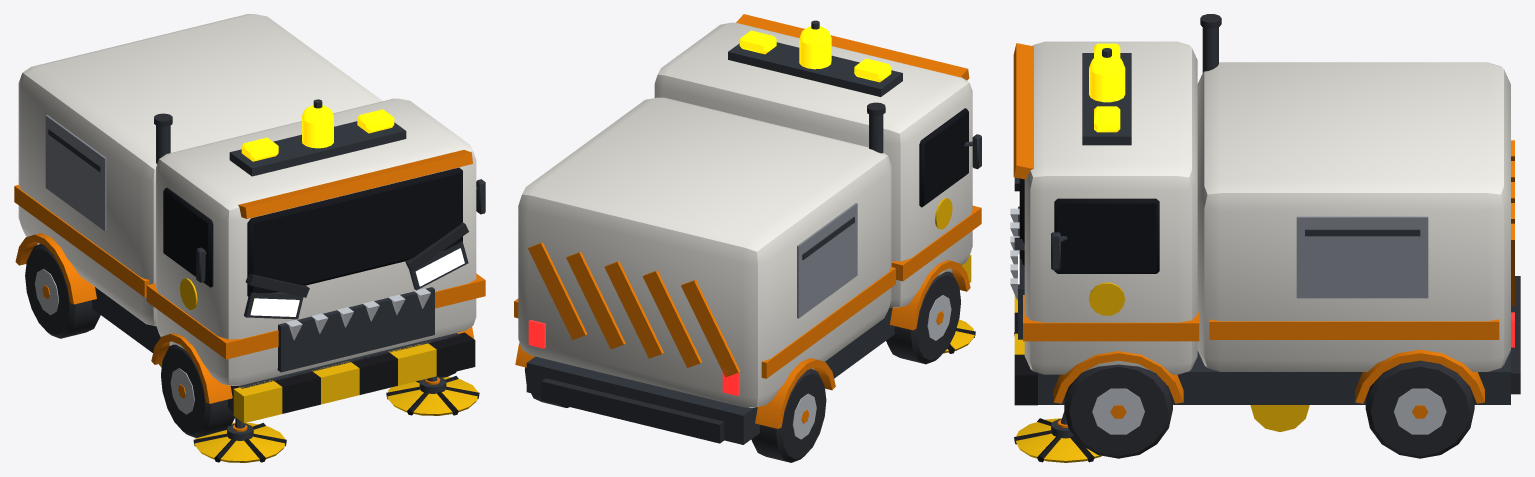
Rendered from street_sweeper.glb.
3 views of the same model, side by side, from view 1: azimuth 30°, elevation 25°; view 2: azimuth 150°, elevation 25°; view 3: azimuth 270°, elevation 25° (orthographic). The views are drawn at different scales.
Visible parts, largest first — view 1: body, brush_r, brush_l; view 2: body, brush_l; view 3: body, brush_r.
Boxes of the visible parts, box(x1,y1,x2,y2) form: body: box(14, 14, 485, 437); brush_r: box(386, 376, 479, 415); brush_l: box(193, 422, 286, 462); body: box(514, 14, 981, 462); brush_l: box(943, 319, 975, 353); body: box(1010, 14, 1520, 458); brush_r: box(1014, 418, 1101, 462).
Bounding box in the file's own units: 223 × 229 × 310.
